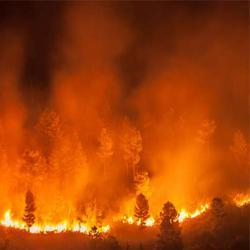fire: (179, 206, 204, 218), (49, 221, 68, 233), (3, 210, 18, 223), (76, 223, 90, 231), (29, 226, 39, 234), (148, 219, 155, 224)
